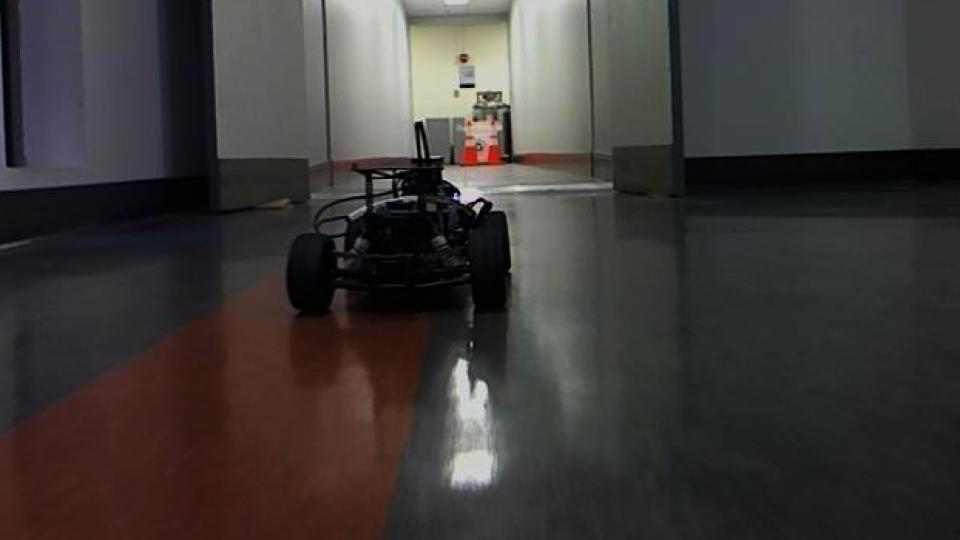car: (282, 120, 514, 316)
